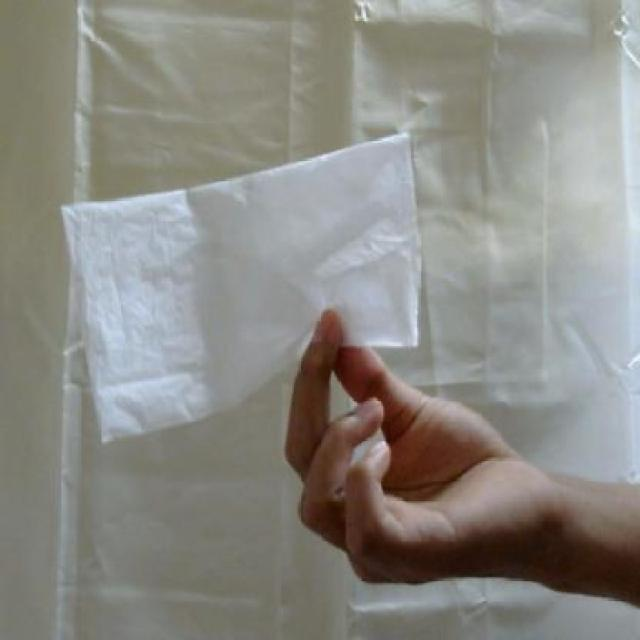Plastic: (63, 124, 426, 443)
